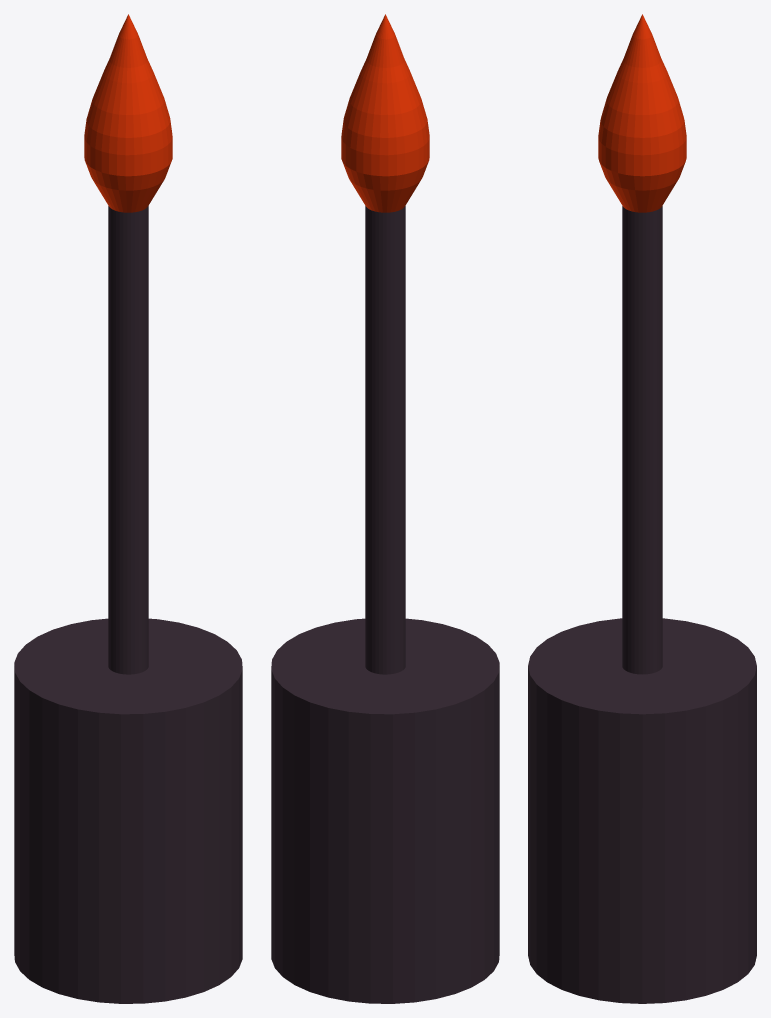
File: lipstick.fbx
3 views of the same model, side by side, from view 1: azimuth 30°, elevation 25°; view 2: azimuth 150°, elevation 25°; view 3: azimuth 270°, elevation 25° (orthographic).
Parts seen in each view (by area): view 1: Cylinder; view 2: Cylinder; view 3: Cylinder.
Boxes of the visible parts, bbox=[...] form: Cylinder: bbox=[14, 14, 242, 1003]; Cylinder: bbox=[271, 14, 499, 1003]; Cylinder: bbox=[528, 14, 756, 1003].
Bounding box in the file's own units: 143 × 650 × 143.
